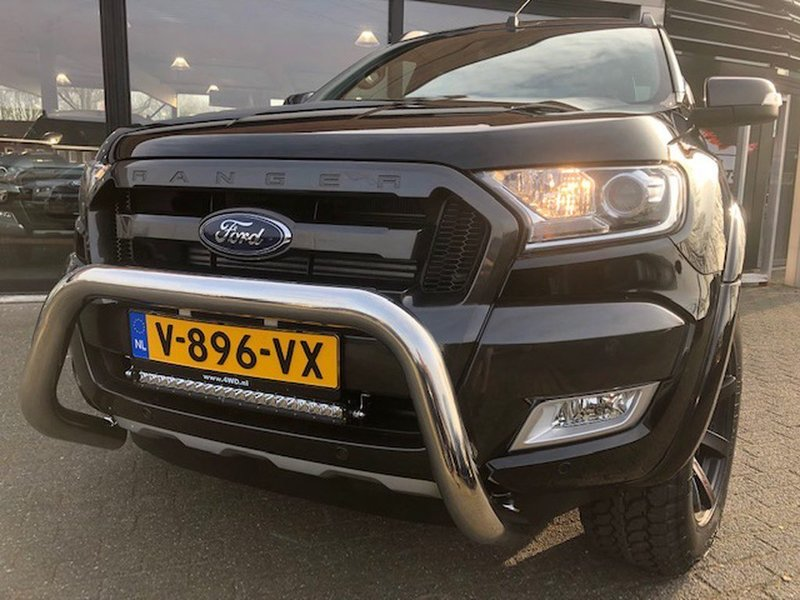kenteken: (122, 309, 344, 392)
